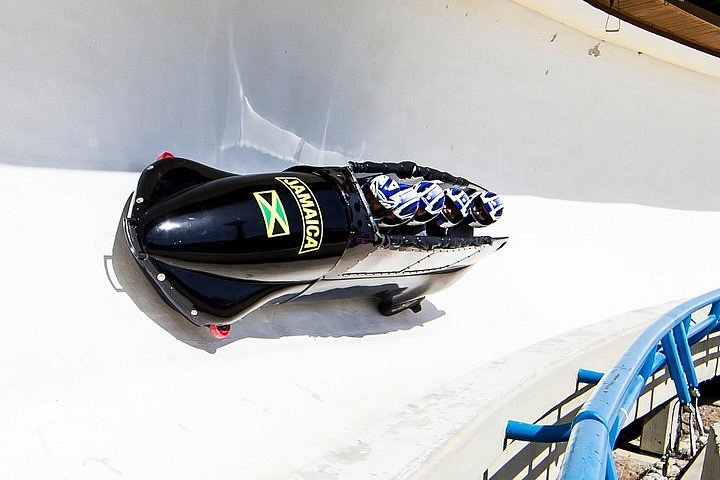Bobsleigh: (127, 153, 509, 338)
